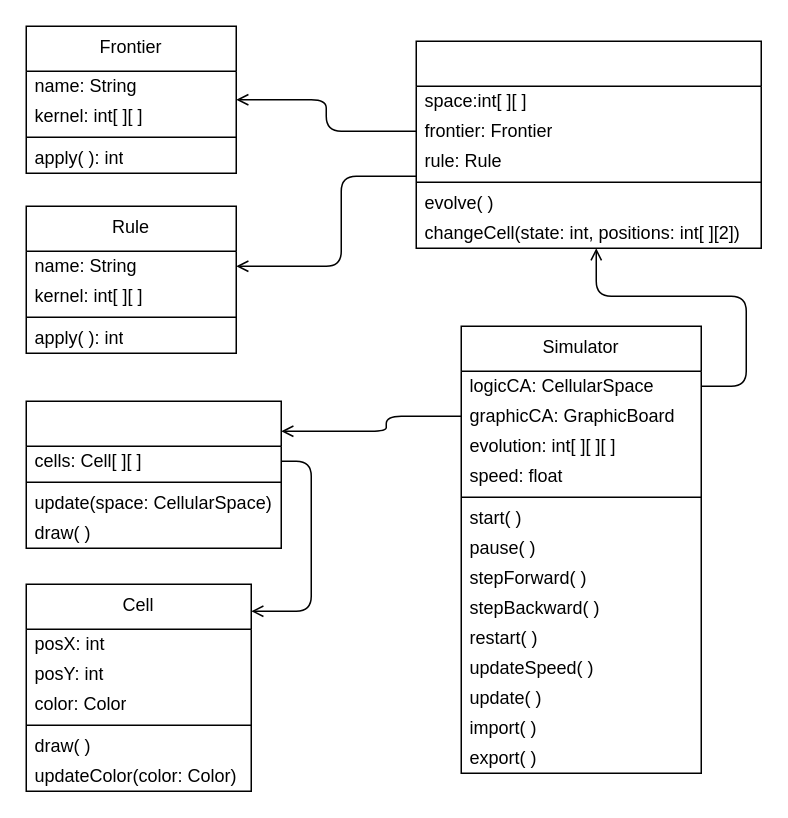
Image size: 788x818. Some labels were removed from this diagram. The shapes that lost their labels are listed below. From the top down, each one's box as (x1, y1, x2, y2) in pixels, then its label:
(415, 40, 761, 248): CellularSpace
(25, 400, 281, 548): GraphicBoard
